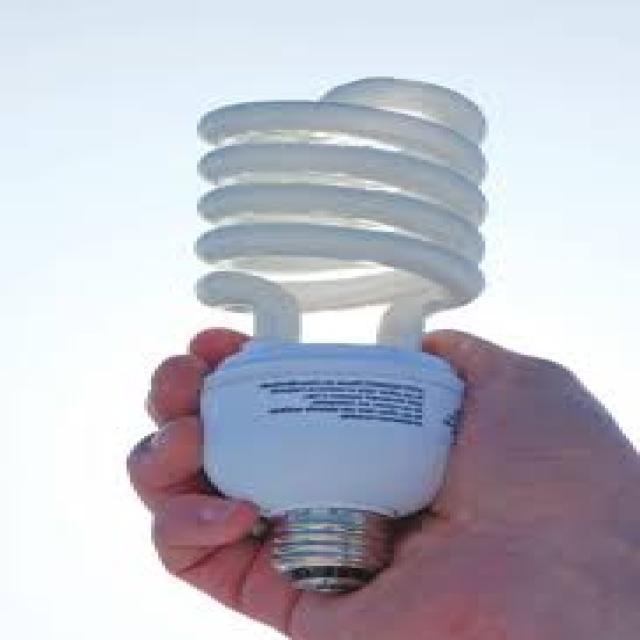Hazard: (162, 75, 513, 560)
